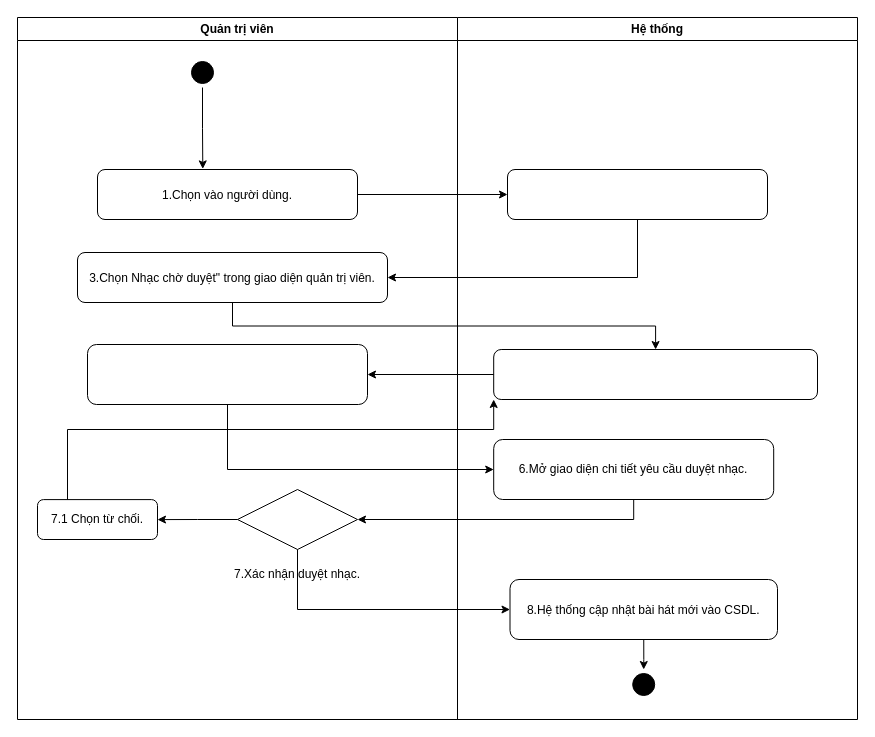
This 875x737 diagram has some shape labels left out. Each missing label, with the centre of its shape:
2.Đưa ra giao diện người dùng với chức năng của quản trị viên: the point at 637,194
4.Hệ thống mở giao diện Danh sách các bài hát chờ duyệt: the point at 655,374
5.Chọn 1 bài hát trong danh sách.: the point at 227,374
